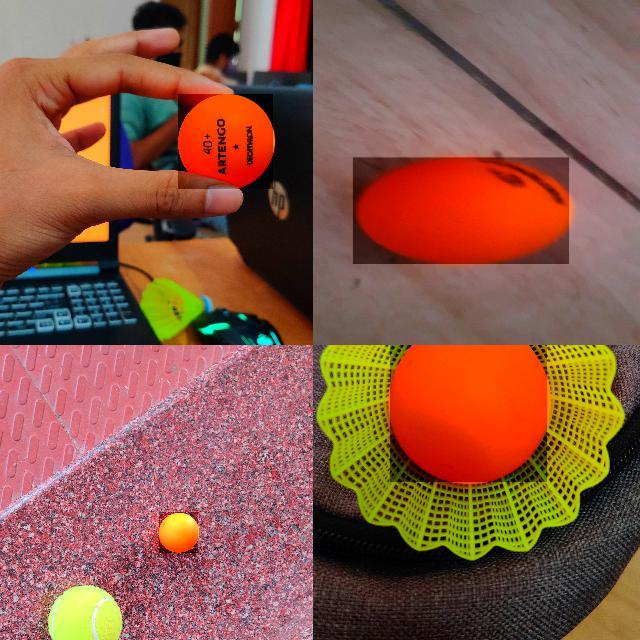ping-pong-ball: (352, 158, 570, 264), (390, 345, 549, 484), (178, 94, 274, 190), (159, 512, 199, 554)
